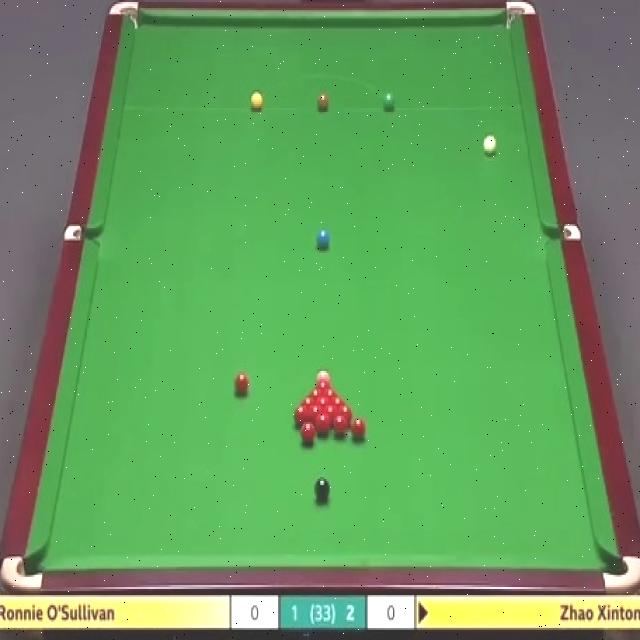black-ball: (313, 476, 331, 503)
blue-ball: (316, 227, 330, 250)
brown-ball: (316, 90, 330, 112)
green-ball: (380, 91, 396, 112)
pink-ball: (315, 369, 331, 384)
red-ball: (233, 373, 251, 398), (351, 418, 368, 443), (292, 404, 310, 425), (300, 421, 317, 443), (330, 414, 346, 436), (315, 413, 331, 434), (310, 404, 325, 421), (326, 406, 339, 425), (339, 405, 352, 423), (302, 396, 316, 406), (330, 397, 347, 405), (317, 397, 332, 406), (307, 390, 323, 398), (314, 382, 331, 389), (323, 389, 337, 397)
white-ball: (482, 130, 499, 158)
yellow-ball: (250, 89, 264, 111)
